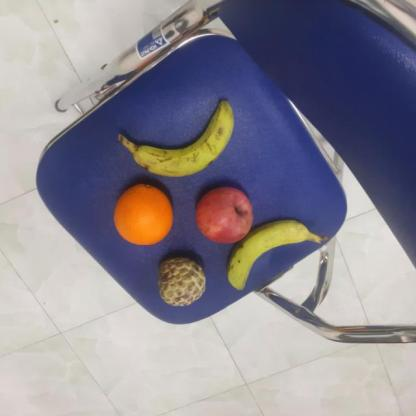annona: (153, 255, 210, 308)
apple: (193, 188, 256, 247)
banana: (130, 100, 236, 180), (219, 220, 308, 290)
orange: (112, 183, 174, 248)
